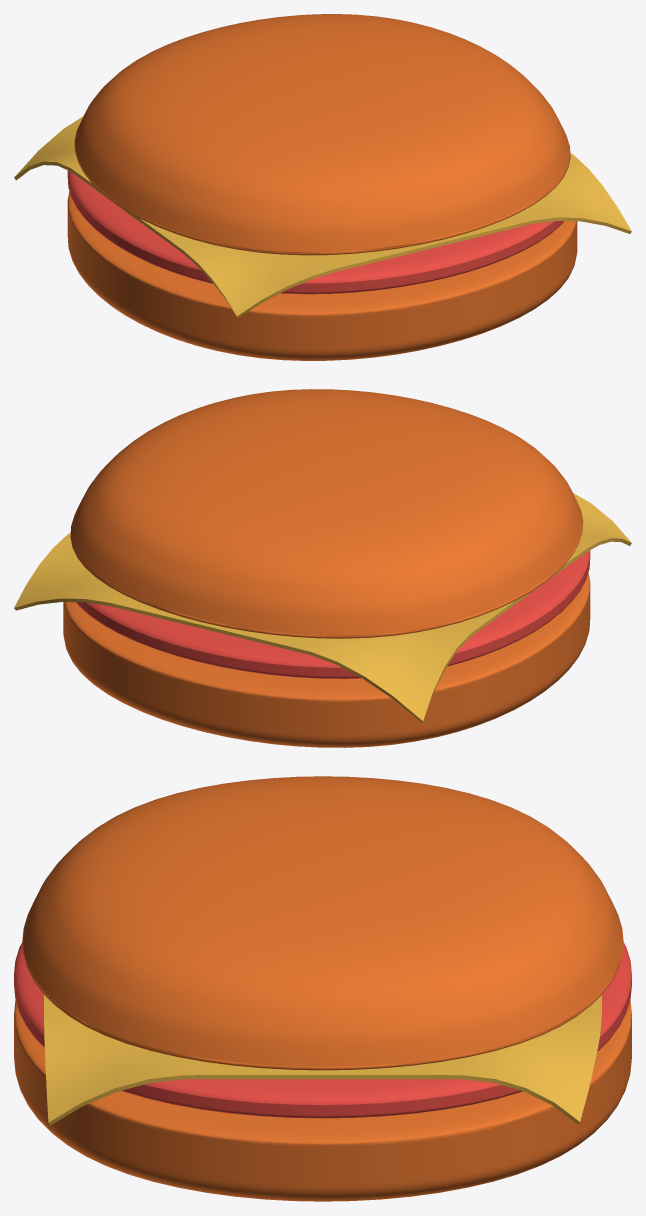
File: hamburger.glb
The picture shows the model from 3 angles, top to bottom: view 1: azimuth 30°, elevation 25°; view 2: azimuth 150°, elevation 25°; view 3: azimuth 270°, elevation 25°; orthographic projection. The views are drawn at different scales.
Visible parts, largest first — view 1: Cube.002, Cube, Plane, Cube.001; view 2: Cube.002, Cube, Plane, Cube.001; view 3: Cube.002, Cube, Plane, Cube.001.
Boxes of the visible parts, x1=… form: Cube.002: x1=74, y1=14, x2=570, y2=255; Cube: x1=67, y1=191, x2=577, y2=360; Plane: x1=14, y1=116, x2=631, y2=318; Cube.001: x1=67, y1=170, x2=563, y2=294; Cube.002: x1=70, y1=389, x2=583, y2=638; Cube: x1=63, y1=572, x2=590, y2=747; Plane: x1=14, y1=493, x2=631, y2=722; Cube.001: x1=76, y1=550, x2=590, y2=678; Cube.002: x1=22, y1=776, x2=623, y2=1070; Cube: x1=14, y1=1000, x2=631, y2=1201; Plane: x1=44, y1=995, x2=601, y2=1125; Cube.001: x1=14, y1=942, x2=631, y2=1118.
Size of the model in its own units: 10.87 by 4.76 by 10.87.
